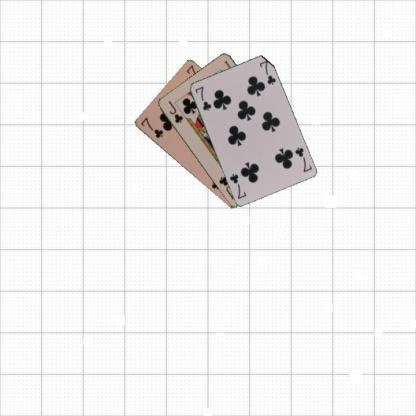7c: (138, 115, 164, 140), (292, 144, 312, 173), (192, 84, 212, 112)
Jc: (166, 98, 184, 124)
